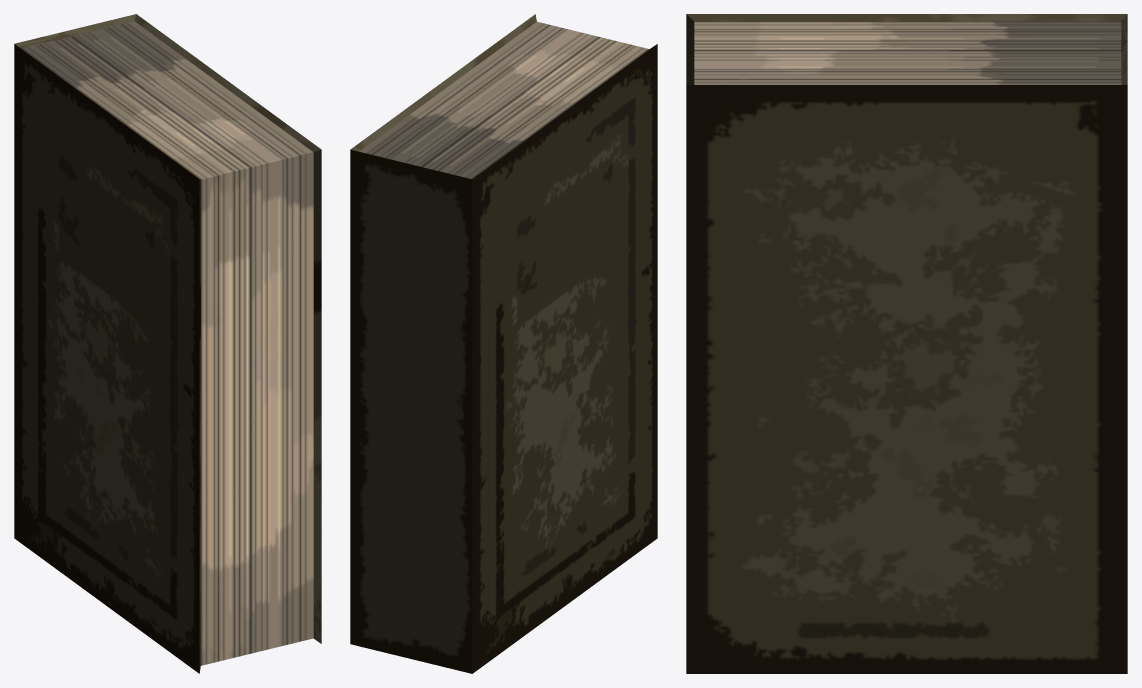
Rendered from Book.FBX.
3 views of the same model, side by side, from view 1: azimuth 30°, elevation 25°; view 2: azimuth 150°, elevation 25°; view 3: azimuth 270°, elevation 25° (orthographic). The views are drawn at different scales.
Visible parts, largest first — view 1: Box094; view 2: Box094; view 3: Box094.
Part boxes in pixels (x1,y1,x2,y2): Box094: (14, 14, 321, 673); Box094: (350, 14, 657, 673); Box094: (686, 14, 1127, 673).
Size of the model in its own units: 10.11 by 39.14 by 26.57.
